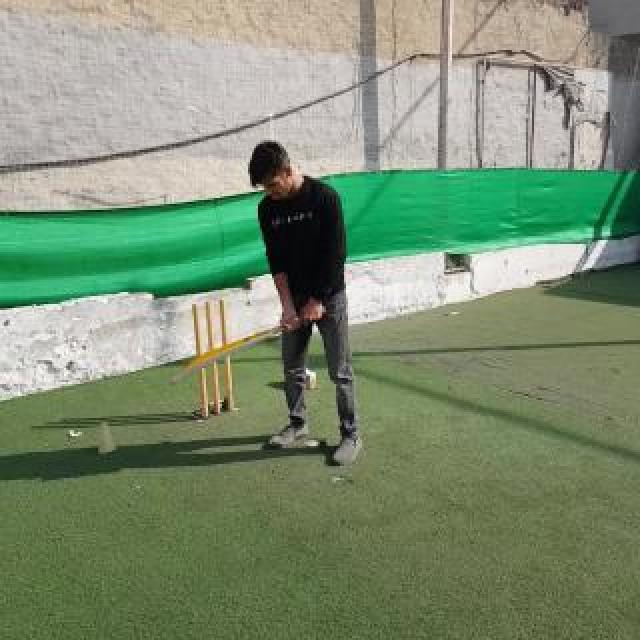bat: (170, 306, 328, 386)
